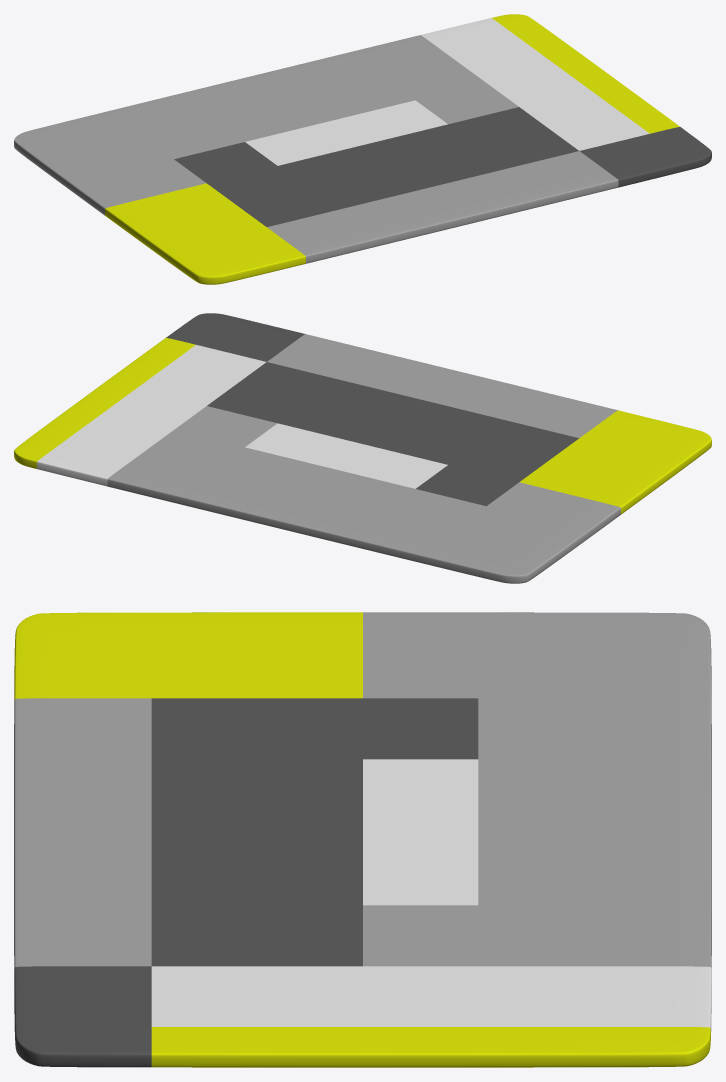
Rendered from Ковер.fbx.
3 views of the same model, one above another, from view 1: azimuth 30°, elevation 25°; view 2: azimuth 150°, elevation 25°; view 3: azimuth 270°, elevation 25° (orthographic). The views are drawn at different scales.
Parts seen in each view (by area): view 1: Куб.002; view 2: Куб.002; view 3: Куб.002.
Part boxes in pixels (left/top/right/bottom): Куб.002: left=14, top=14, right=711, bottom=284; Куб.002: left=14, top=313, right=711, bottom=583; Куб.002: left=14, top=612, right=711, bottom=1067.
Bounding box in the file's own units: 1131 × 18.26 × 753.
